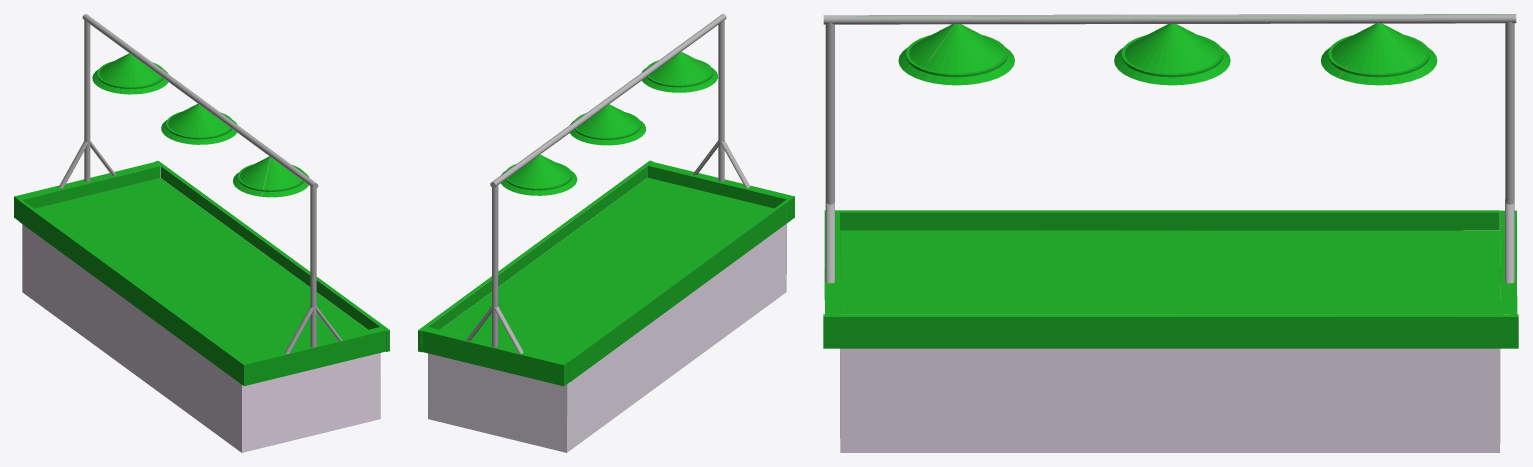
Rendered from STALL #2.fbx.
3 renders of one model, left to right at view 1: azimuth 30°, elevation 25°; view 2: azimuth 150°, elevation 25°; view 3: azimuth 270°, elevation 25°, orthographic. The views are drawn at different scales.
Parts seen in each view (by area): view 1: ST2; view 2: ST2; view 3: ST2.
Part boxes in pixels (x1,y1,x2,y2): ST2: (14, 14, 389, 452); ST2: (418, 14, 794, 452); ST2: (823, 14, 1518, 452).
Size of the model in its own units: 358 by 606 by 987.
Materials: 1 (1 with a texture image).
